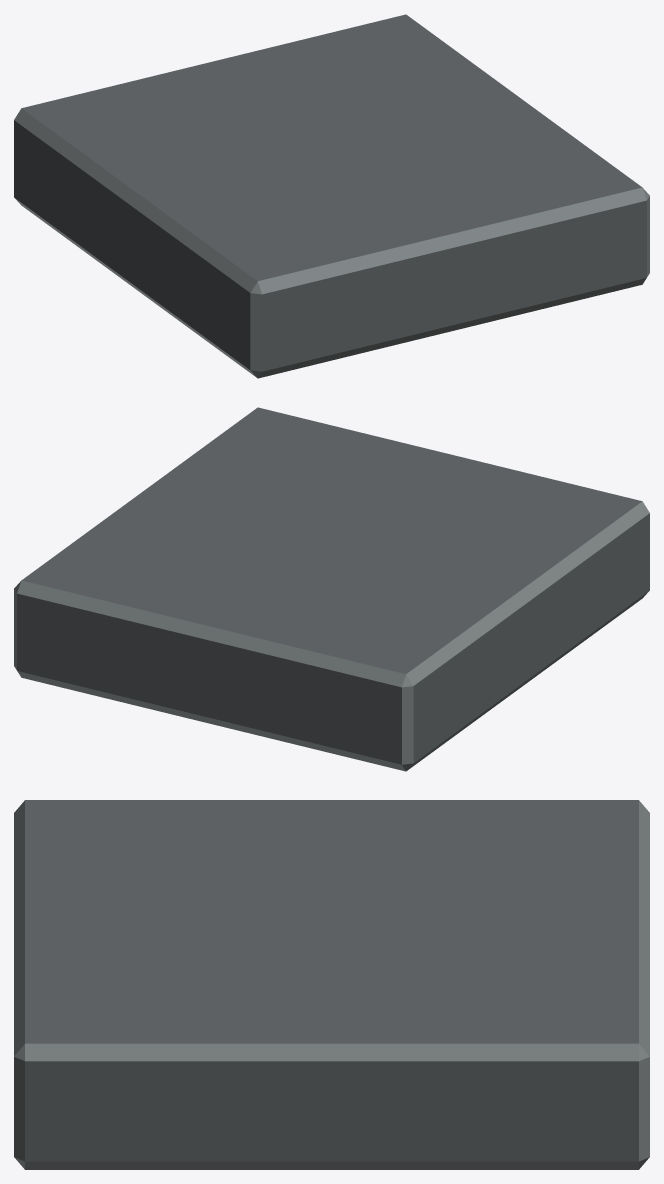
File: MCastle_HardStone_Floor_05.FBX
3 renders of one model, top to bottom at view 1: azimuth 30°, elevation 25°; view 2: azimuth 150°, elevation 25°; view 3: azimuth 270°, elevation 25°, orthographic. The views are drawn at different scales.
Visible parts, largest first — view 1: MCastle_HardStone_Floor_05_LOD0; view 2: MCastle_HardStone_Floor_05_LOD0; view 3: MCastle_HardStone_Floor_05_LOD0.
Part boxes in pixels (x1,y1,x2,y2): MCastle_HardStone_Floor_05_LOD0: (14, 14, 649, 378); MCastle_HardStone_Floor_05_LOD0: (14, 407, 649, 771); MCastle_HardStone_Floor_05_LOD0: (14, 800, 649, 1169).
Size of what is drawn, in the model's own units: 84.66 by 19.7 by 89.91.
